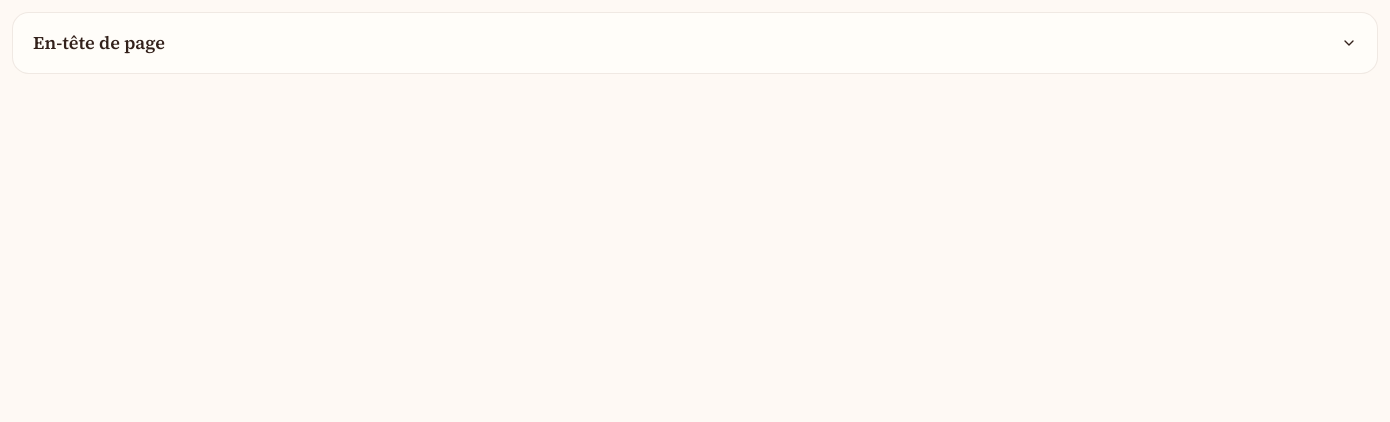
it: PageHeaderContentForm › enables the save button once a field changes
Click the button "En-tête de page": (99, 42) 13,13 -> 1377,73
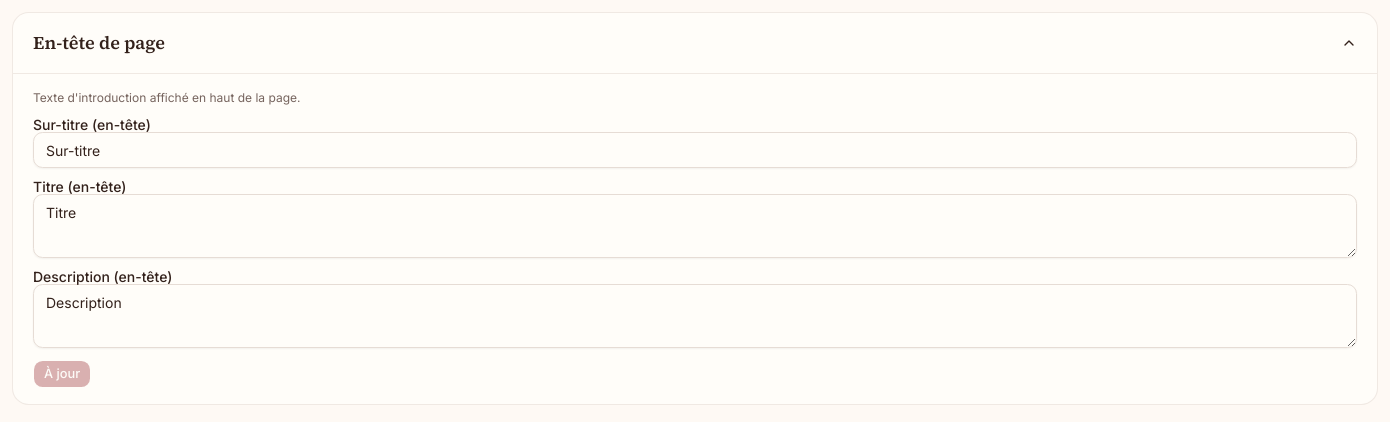
Replace the text in the 1st text box with "Nouveau titre": (695, 226) 33,194 -> 1357,258
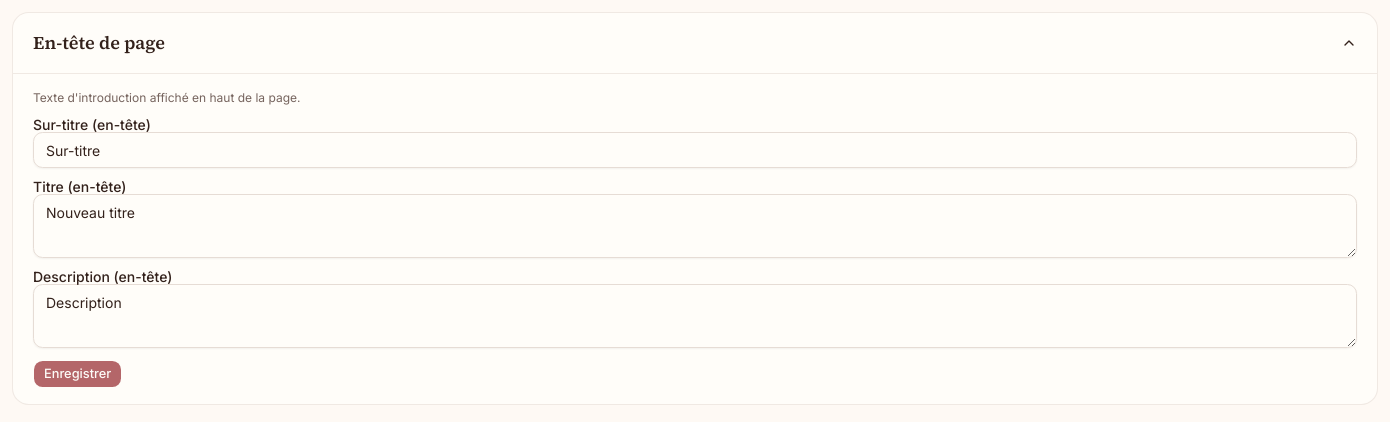
Expected: the button "Enregistrer" is enabled, 33,360 -> 122,388
